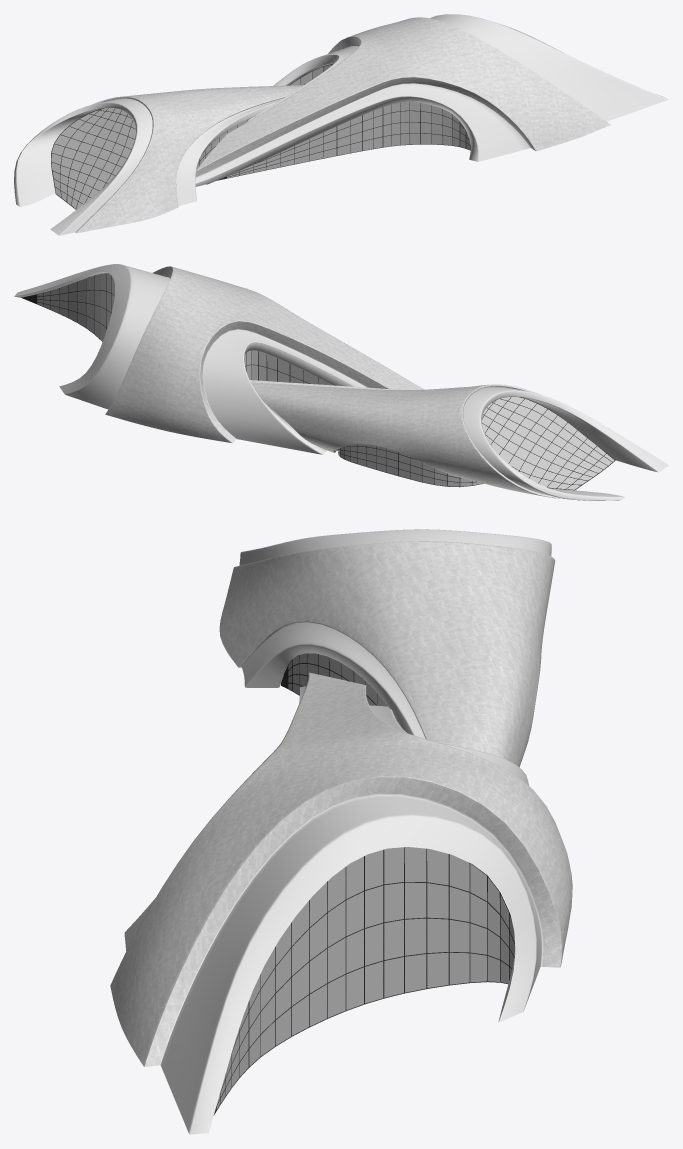
Rendered from KB3D_UTP_BldgSM_K.fbx.
3 renders of one model, top to bottom at view 1: azimuth 30°, elevation 25°; view 2: azimuth 150°, elevation 25°; view 3: azimuth 270°, elevation 25°, orthographic. The views are drawn at different scales.
Parts seen in each view (by area): view 1: KB3D_UTP_BldgSM_K_Main; view 2: KB3D_UTP_BldgSM_K_Main; view 3: KB3D_UTP_BldgSM_K_Main.
Part boxes in pixels (x1,y1,x2,y2): KB3D_UTP_BldgSM_K_Main: [14, 14, 668, 235]; KB3D_UTP_BldgSM_K_Main: [14, 264, 668, 500]; KB3D_UTP_BldgSM_K_Main: [110, 529, 572, 1134].
Bounding box in the file's own units: 32726 × 4692 × 10971.
